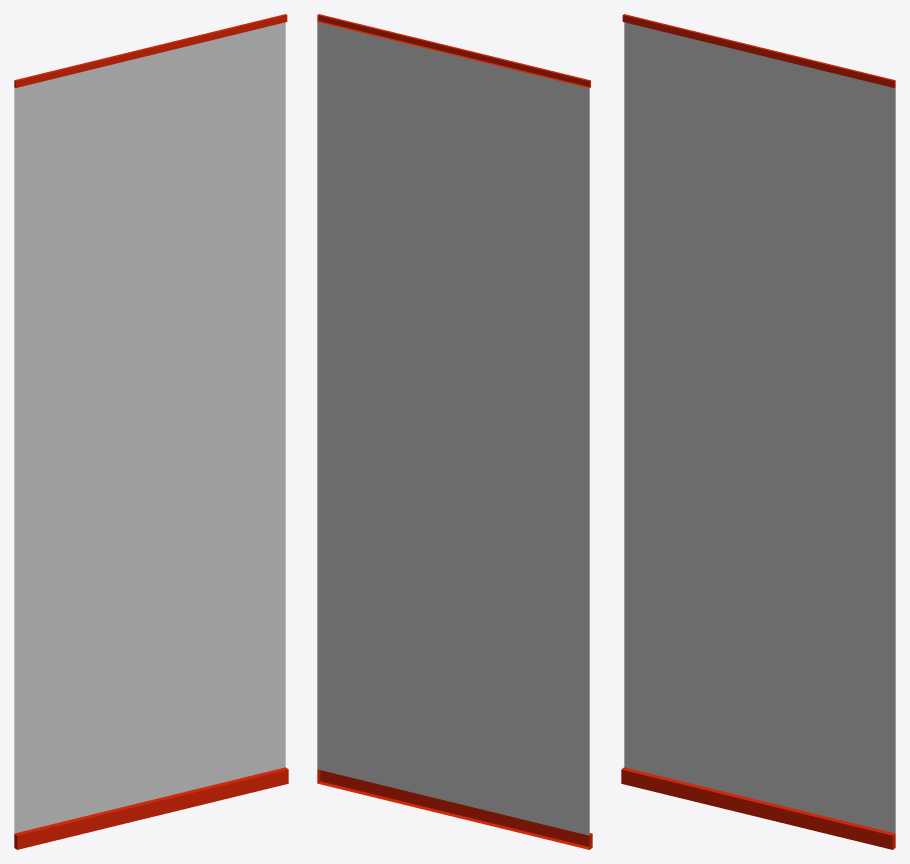
File: wall_03.fbx
The picture shows the model from 3 angles, left to right: view 1: azimuth 30°, elevation 25°; view 2: azimuth 150°, elevation 25°; view 3: azimuth 330°, elevation 25°; orthographic projection.
Visible parts, largest first — view 1: wall_01; view 2: wall_01; view 3: wall_01.
Part boxes in pixels (<box>): wall_01: <box>14,14,288,849</box>; wall_01: <box>317,14,592,849</box>; wall_01: <box>621,14,895,849</box>.
Size of the model in its own units: 0.0192 by 1 by 2.7.
